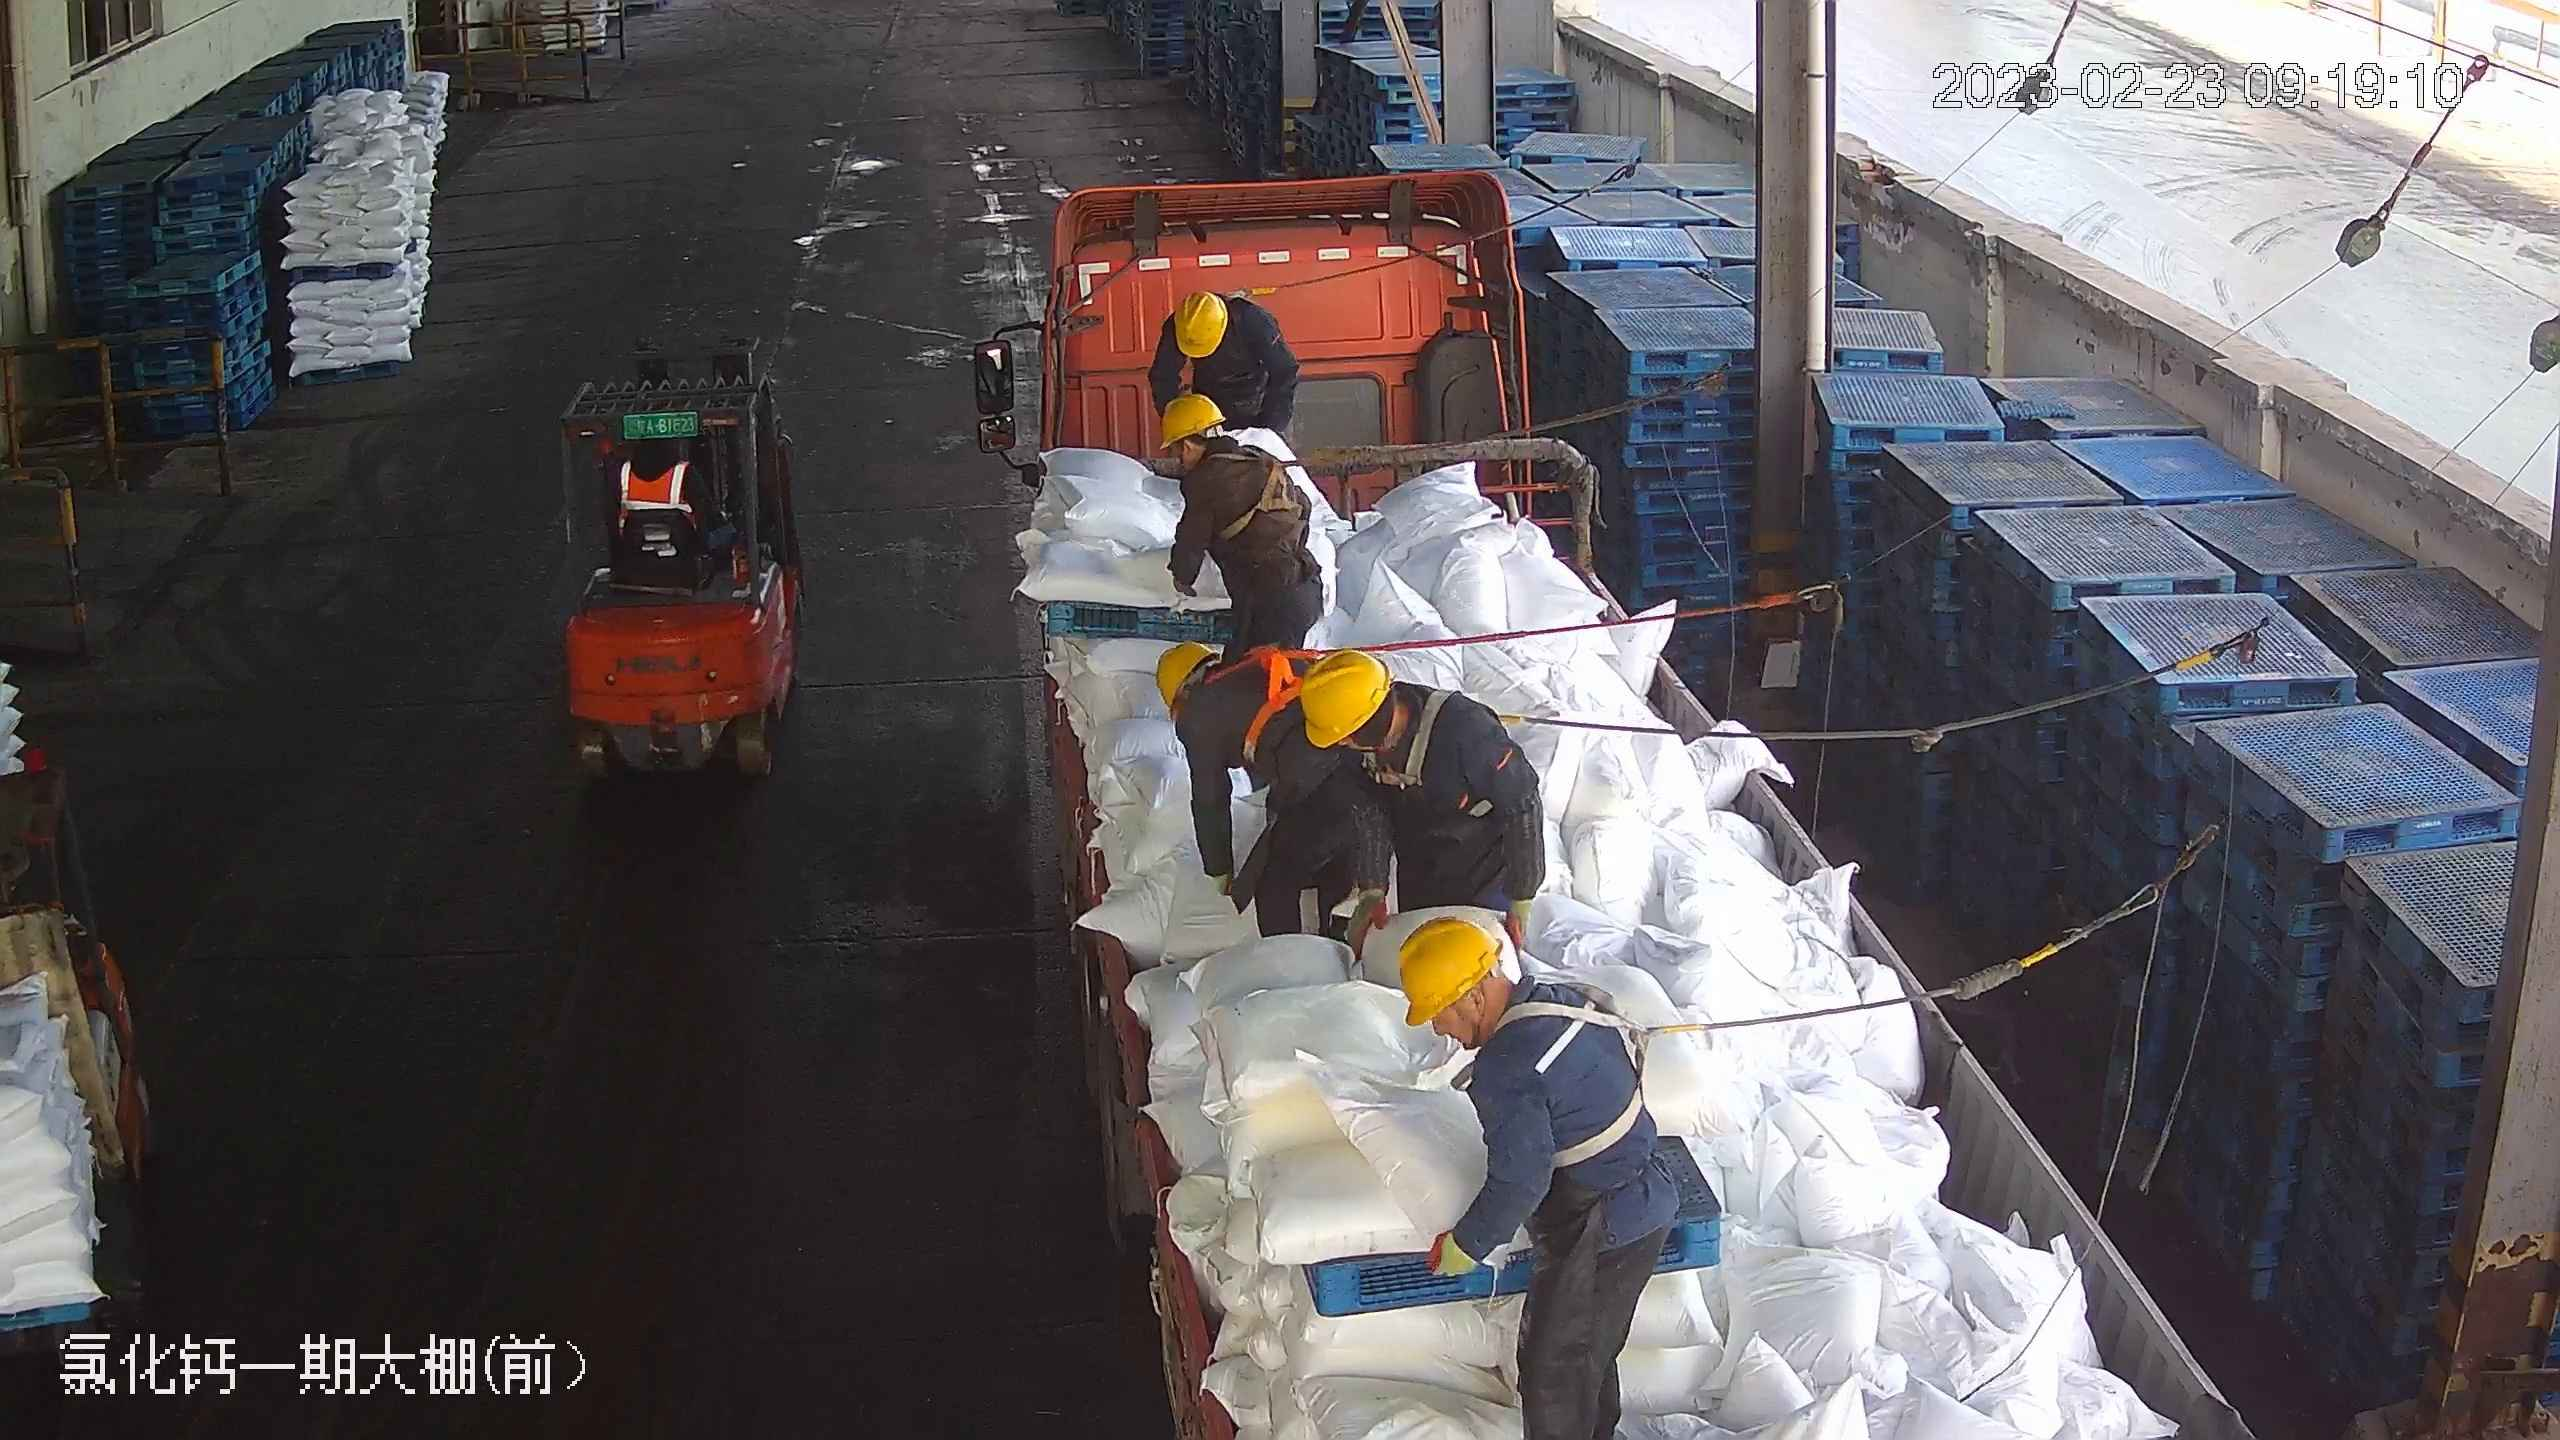belt: (1461, 980, 1705, 1169), (1369, 683, 1532, 800), (1210, 439, 1329, 545), (1218, 642, 1315, 754), (1232, 285, 1291, 330)
head: (1405, 914, 1622, 1130), (1289, 648, 1497, 810), (1159, 393, 1289, 508), (1154, 638, 1287, 741), (1161, 290, 1274, 374)
helmet: (1398, 916, 1502, 1027), (1298, 649, 1390, 745), (1155, 640, 1217, 714), (1161, 393, 1226, 448), (1172, 292, 1225, 358)
people: (1404, 921, 1677, 1436), (1251, 645, 1547, 947), (1154, 624, 1325, 895), (1167, 389, 1321, 657), (1142, 293, 1306, 445)
truck: (987, 161, 2253, 1430)
